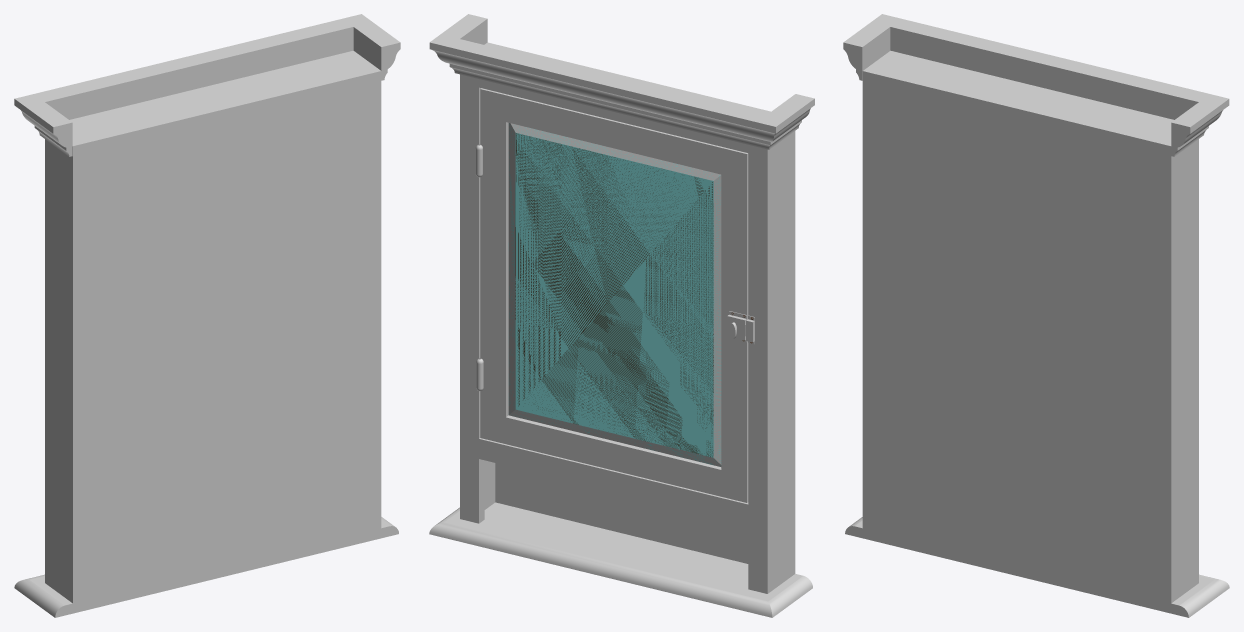
3 views of the same model, side by side, from view 1: azimuth 30°, elevation 25°; view 2: azimuth 150°, elevation 25°; view 3: azimuth 330°, elevation 25° (orthographic).
Parts seen in each view (by area): view 1: mesh1_mesh1-geometry; view 2: mesh2_mesh2-geometry, mesh1_mesh1-geometry; view 3: mesh1_mesh1-geometry.
Part boxes in pixels (x1,y1,x2,y2): mesh1_mesh1-geometry: (14, 14, 400, 617); mesh2_mesh2-geometry: (480, 88, 748, 502); mesh1_mesh1-geometry: (429, 14, 814, 617); mesh1_mesh1-geometry: (843, 14, 1229, 617).
Size of the model in its own units: 0.5905 by 0.7981 by 0.1202.
